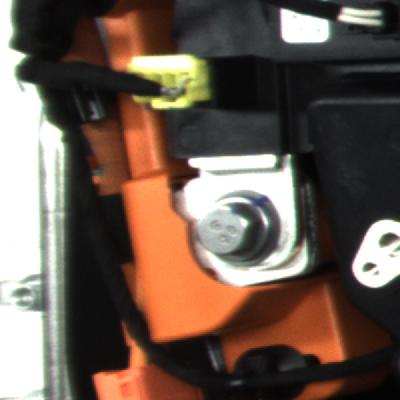nut_b: (187, 176, 279, 284)
